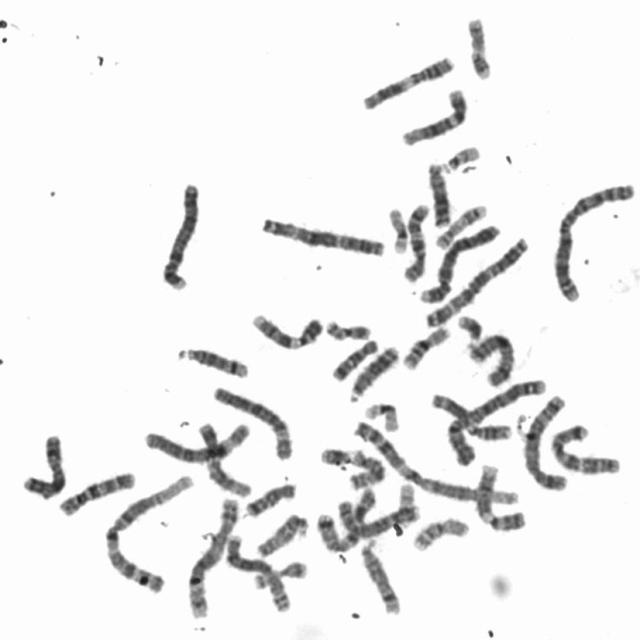A1: (346, 413, 524, 508), (97, 466, 197, 595)
A2: (546, 174, 638, 304), (442, 373, 547, 468)
A3: (419, 230, 532, 329), (255, 208, 388, 258)
B4: (414, 217, 503, 307), (155, 175, 203, 292)
B5: (181, 490, 241, 620), (518, 388, 572, 492)
C10: (52, 464, 139, 518), (398, 195, 432, 283)
C11: (356, 48, 458, 112), (424, 386, 514, 442)
C12: (192, 415, 254, 499), (395, 80, 470, 147)
C6: (208, 379, 295, 462), (137, 415, 254, 465)
C7: (311, 479, 379, 554), (544, 417, 624, 476)
C8: (220, 529, 293, 615), (332, 496, 422, 538)
C9: (469, 457, 528, 533), (245, 304, 326, 352)
D13: (343, 338, 402, 403), (422, 155, 454, 229)
D14: (355, 533, 404, 616), (171, 340, 251, 380)
D15: (250, 507, 311, 559), (342, 446, 388, 490)
E16: (397, 319, 453, 371), (407, 511, 472, 554)
E17: (429, 197, 489, 250), (461, 9, 495, 82)
E18: (326, 333, 382, 383), (239, 476, 299, 519)
F19: (382, 200, 411, 256), (359, 396, 401, 433)
F20: (320, 312, 374, 342), (250, 563, 310, 590)
G21: (452, 307, 486, 349), (317, 446, 355, 468)
G22: (439, 138, 483, 174), (391, 476, 420, 528)
X: (15, 426, 69, 500), (461, 328, 518, 388)
